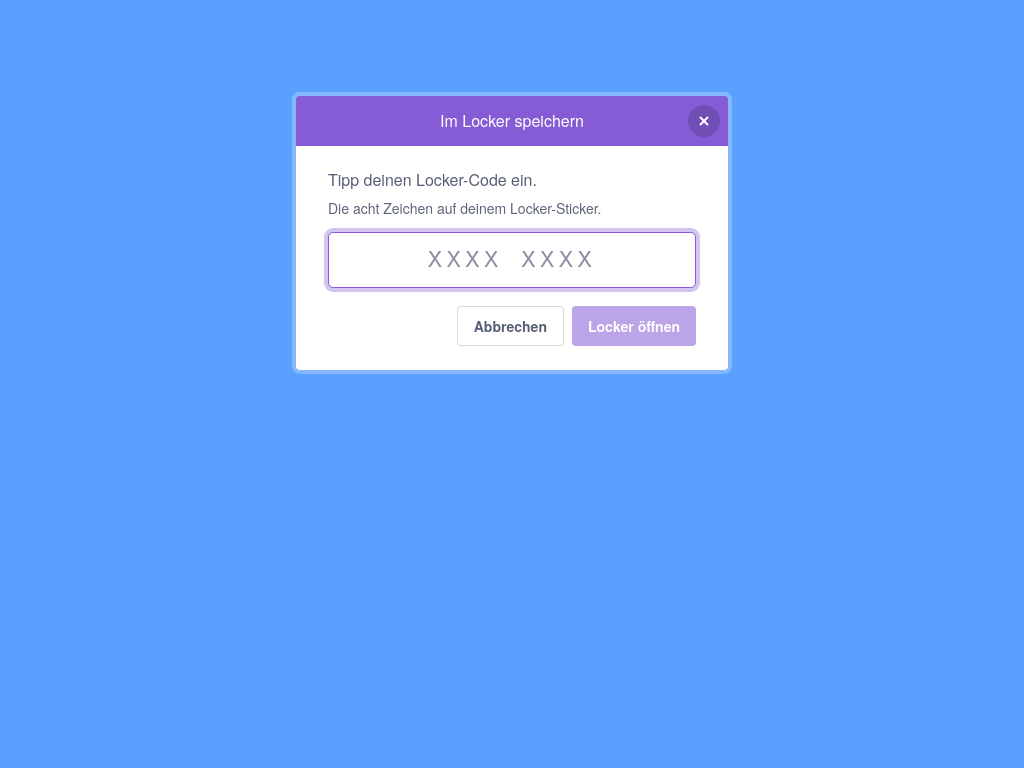
Test: LockerDialog › the sticker code is typed the forgiving way, then remembered for this tab
expect the button "Locker öffnen" is disabled: met, box [572,306,696,346]
Type "k7qm4xr" into the field labelled "Tipp deinen Locker-Code ein." at (512, 260), box [328,232,696,288]
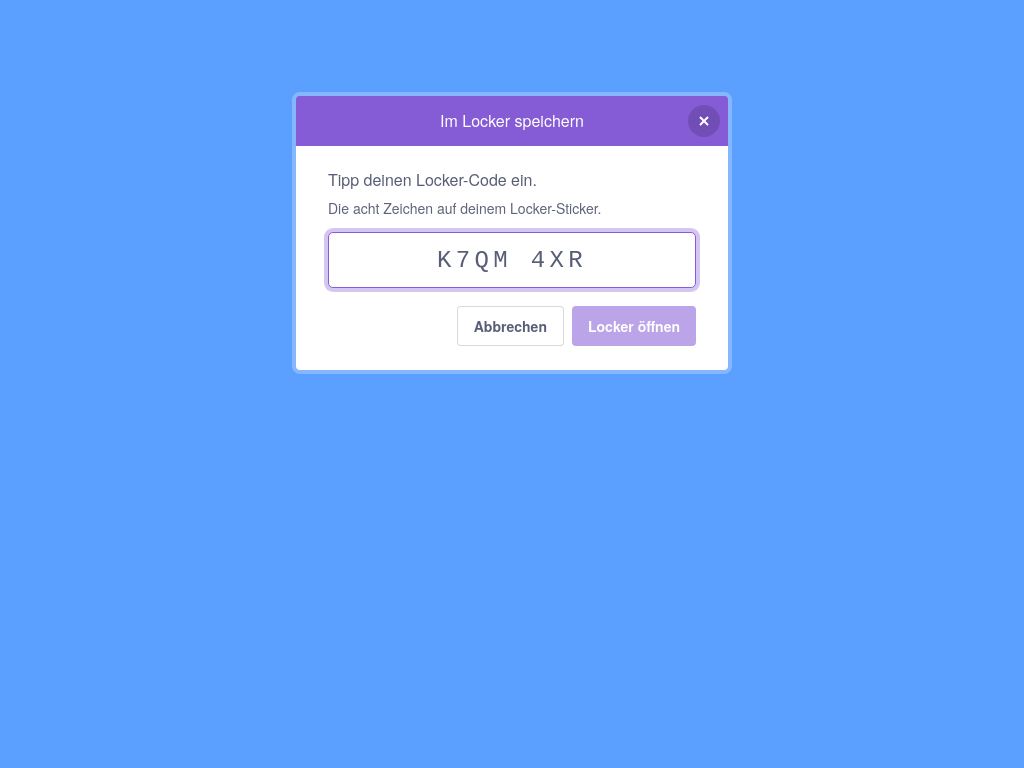
expect the button "Locker öffnen" is disabled: met, box [572,306,696,346]
expect the field labelled "Tipp deinen Locker-Code ein." holds "K7QM 4XR": met
Replace the text in the field labelled "Tipp deinen Locker-Code ein." with "k7qm 4xrt" at (512, 260), box [328,232,696,288]
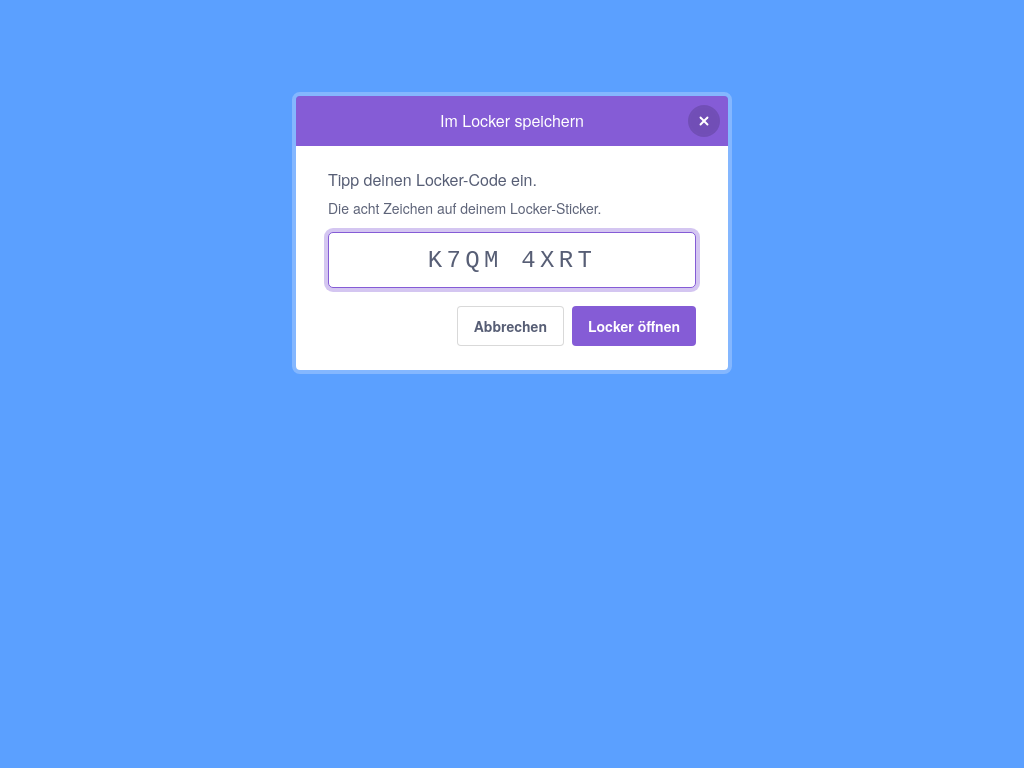
Click the button "Locker öffnen" at (634, 326), box [572,306,696,346]
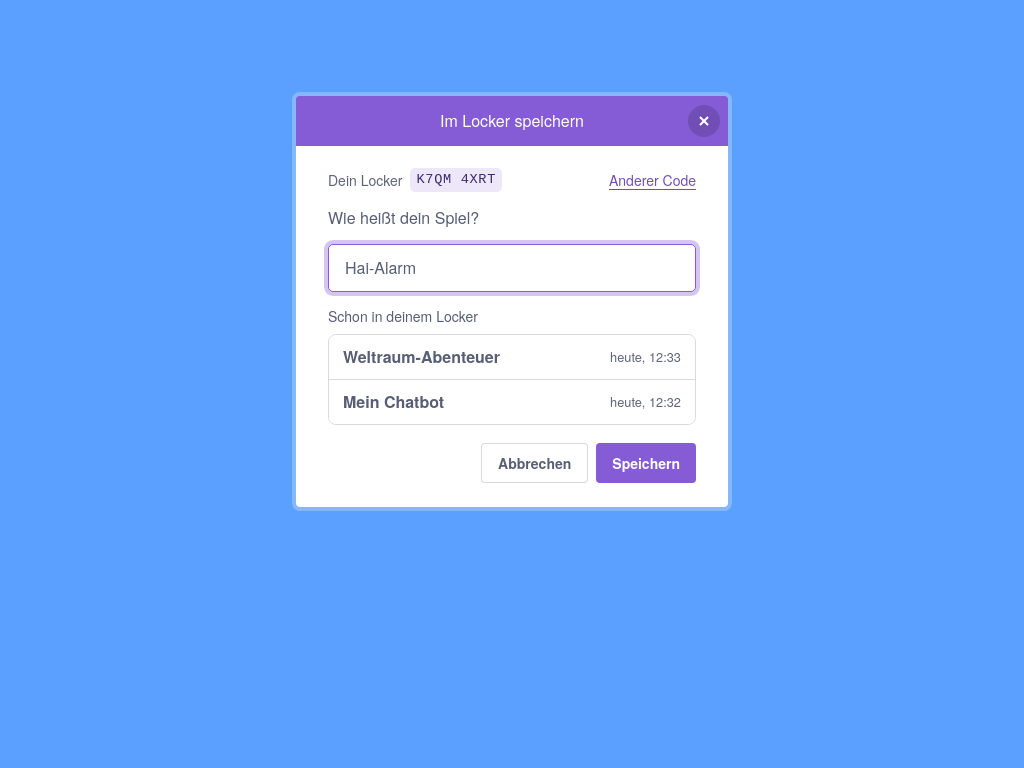
expect the field labelled "Wie heißt dein Spiel?" holds "Hai-Alarm": met, box [328,244,696,292]
expect the text "K7QM 4XRT" is shown: met, box [410,168,502,192]
